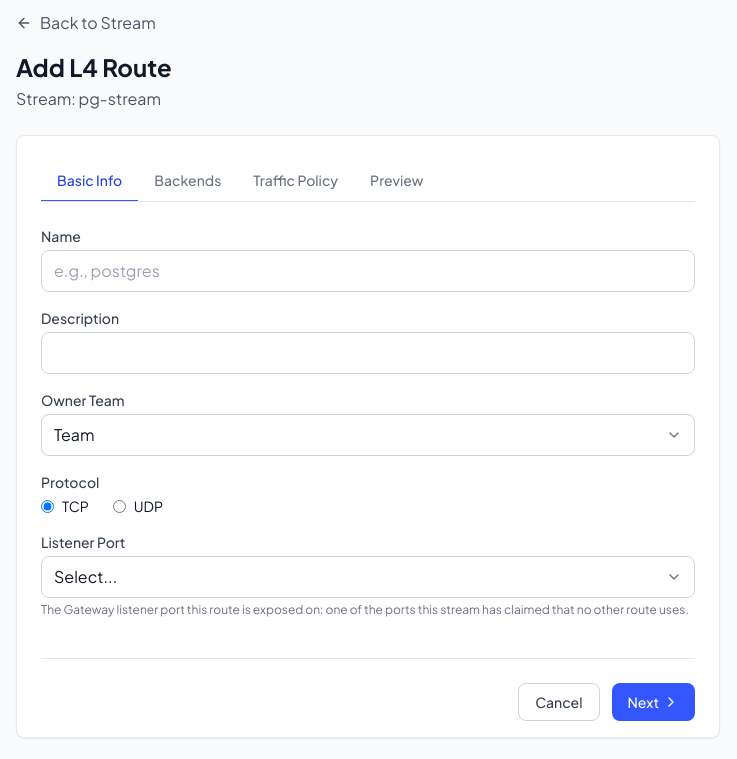
no free claim on the protocol › uses the UDP wording when every UDP claim is in use
Expected: the field labelled "Name" is shown, x1=41 y1=250 x2=695 y2=292
Click the radio button labelled "UDP".
click(119, 506)  # box x1=113 y1=500 x2=126 y2=512
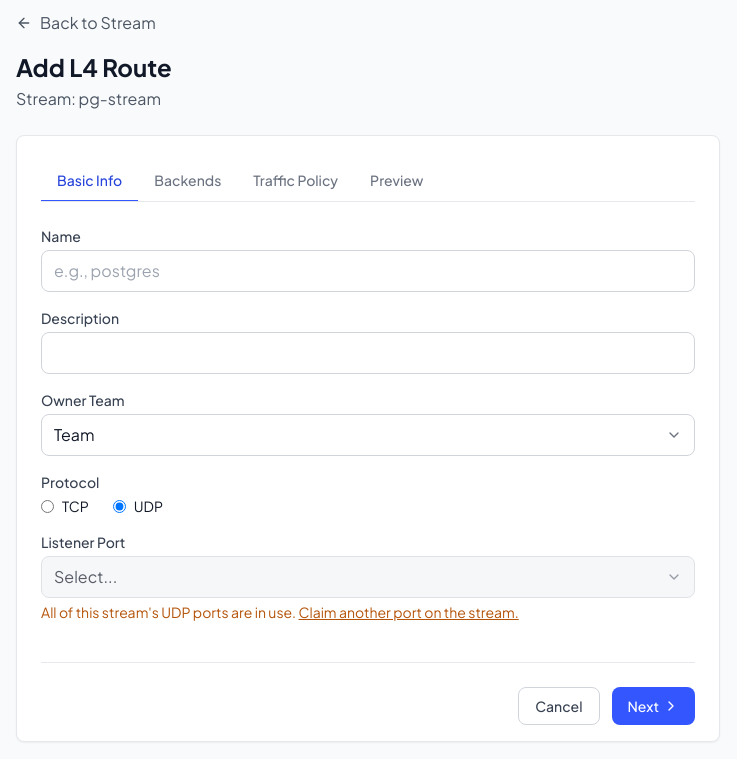
Expected: the element with test id "no-free-ports" reads "All of this stream's UDP ports are in use. Claim another port on the stream.", x1=41 y1=603 x2=519 y2=621
